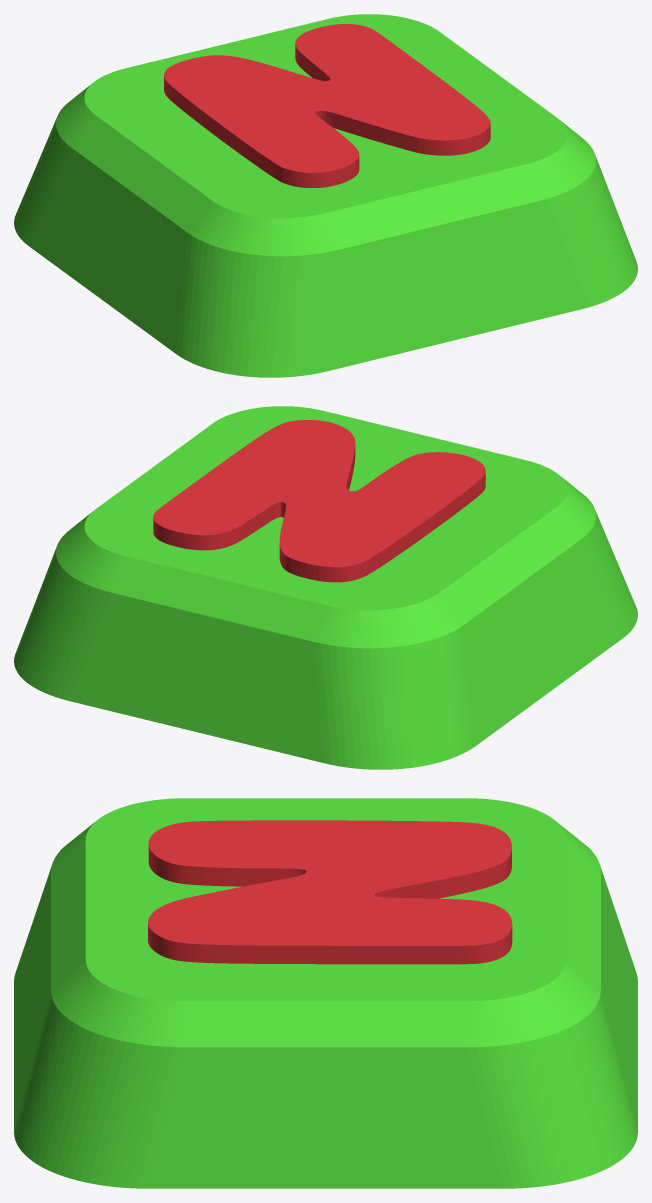
3 renders of one model, top to bottom at view 1: azimuth 30°, elevation 25°; view 2: azimuth 150°, elevation 25°; view 3: azimuth 270°, elevation 25°, orthographic. The views are drawn at different scales.
Parts seen in each view (by area): view 1: CAPS_N, FONT_N; view 2: CAPS_N, FONT_N; view 3: CAPS_N, FONT_N.
Boxes of the visible parts, x1,y1,x2,y2 form: CAPS_N: (14, 14, 637, 377); FONT_N: (164, 24, 490, 187); CAPS_N: (14, 406, 637, 769); FONT_N: (153, 420, 485, 582); CAPS_N: (14, 798, 637, 1188); FONT_N: (148, 820, 512, 964).
Bounding box in the file's own units: 18 × 5.59 × 18.
